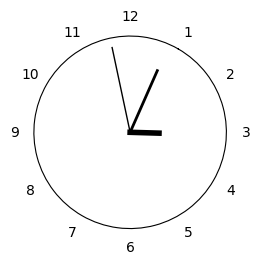12: (121, 8, 140, 23)
circle: (33, 35, 227, 229)
hours: (127, 129, 162, 137)
minutes: (131, 69, 159, 130)
seconds: (111, 46, 130, 129)
